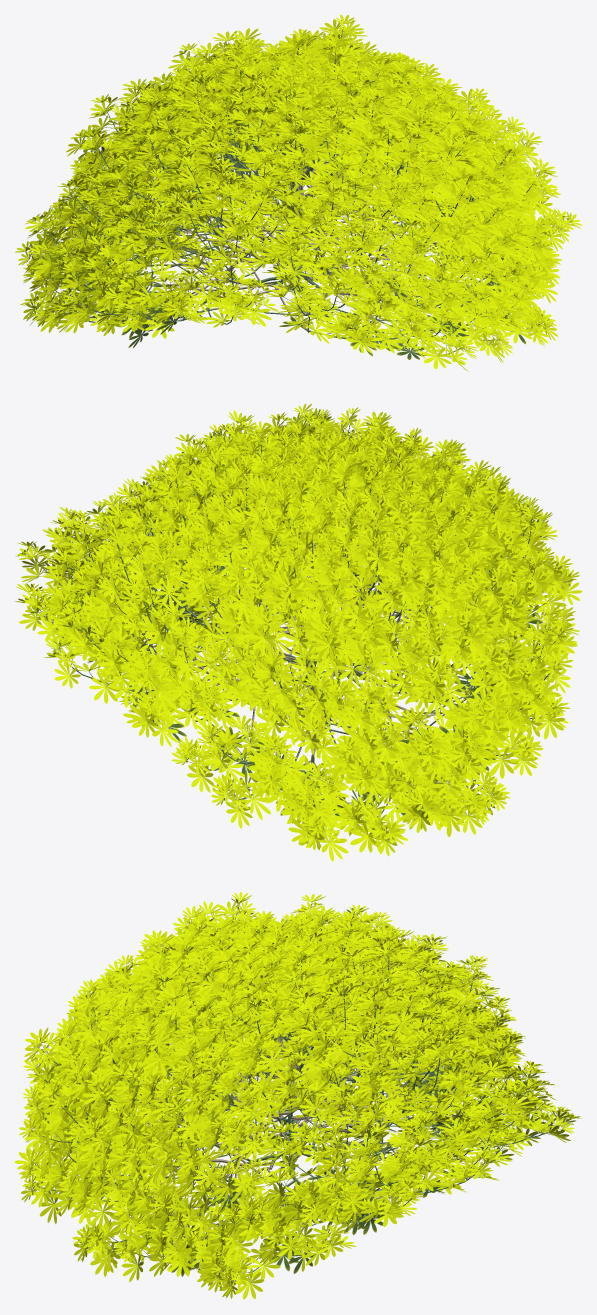
The model's file is erizon.glb.
3 renders of one model, top to bottom at view 1: azimuth 30°, elevation 25°; view 2: azimuth 150°, elevation 25°; view 3: azimuth 270°, elevation 25°, orthographic. The views are drawn at different scales.
Parts seen in each view (by area): view 1: Erizon; view 2: Erizon; view 3: Erizon.
Boxes of the visible parts, box(x1,y1,x2,y2) form: Erizon: box(14, 14, 582, 371); Erizon: box(15, 403, 582, 861); Erizon: box(14, 891, 581, 1299).
Bounding box in the file's own units: 2.98 × 1.64 × 2.94.
14 materials, 14 textured.
